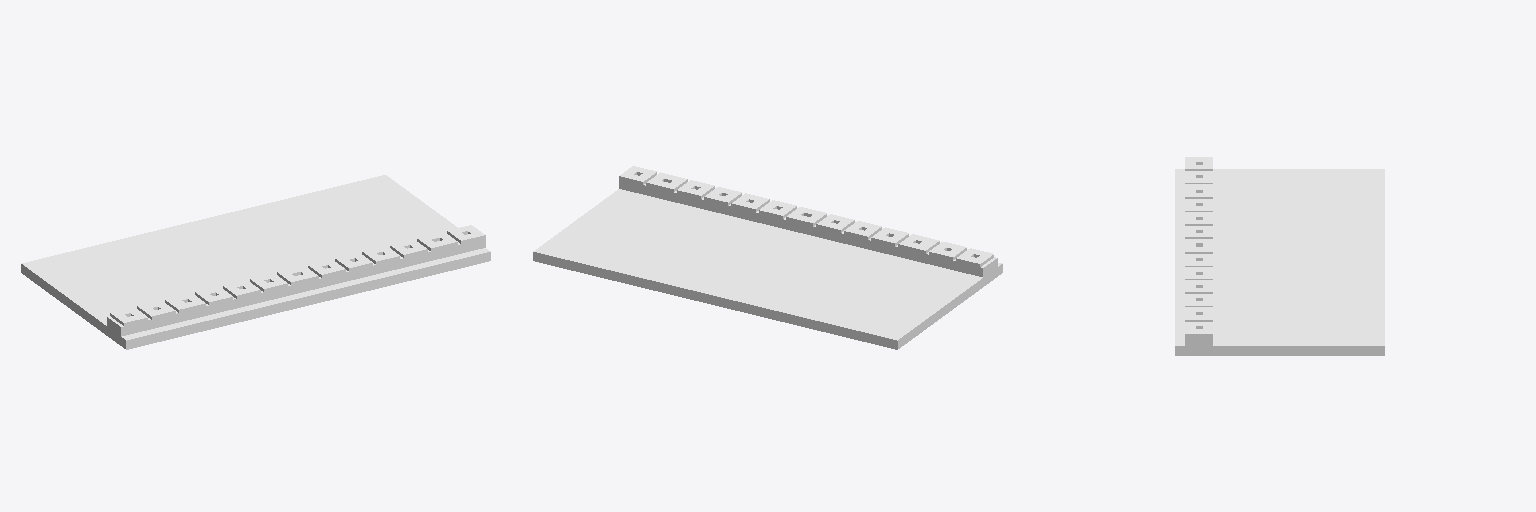
File: chaosuperior.obj
3 renders of one model, left to right at view 1: azimuth 30°, elevation 25°; view 2: azimuth 150°, elevation 25°; view 3: azimuth 270°, elevation 25°, orthographic.
Size of the model in its own units: 120 by 7 by 60.